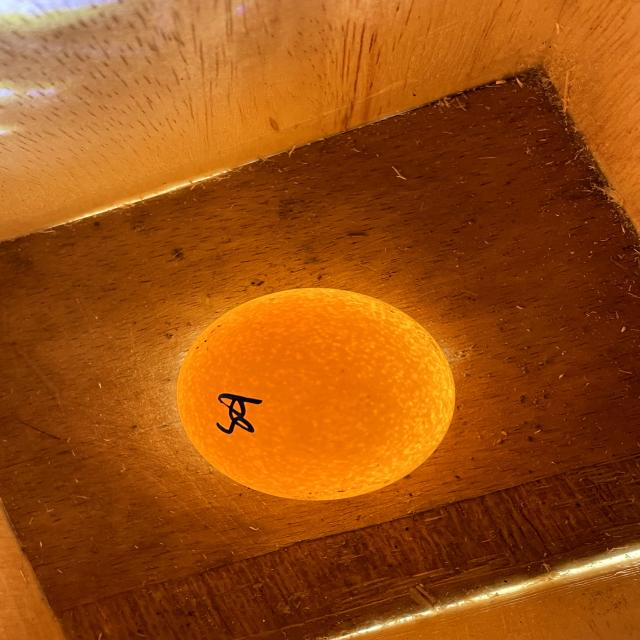infertile: (177, 289, 455, 500)
